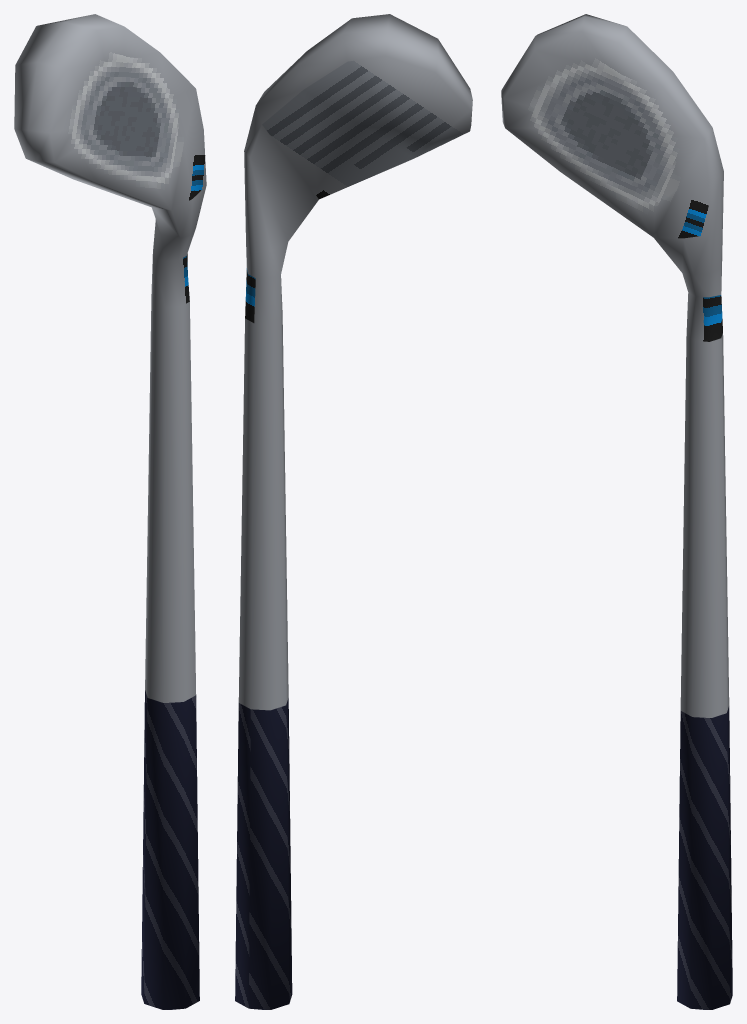
File: club_7i.glb
3 views of the same model, side by side, from view 1: azimuth 30°, elevation 25°; view 2: azimuth 150°, elevation 25°; view 3: azimuth 330°, elevation 25° (orthographic). The views are drawn at different scales.
Parts seen in each view (by area): view 1: polygon1.004, polygon0.004; view 2: polygon1.004, polygon0.004; view 3: polygon1.004, polygon0.004.
Boxes of the visible parts, bbox=[...] form: polygon1.004: bbox=[14, 14, 206, 702]; polygon0.004: bbox=[141, 690, 199, 1009]; polygon1.004: bbox=[238, 14, 472, 710]; polygon0.004: bbox=[235, 698, 292, 1009]; polygon1.004: bbox=[501, 14, 729, 717]; polygon0.004: bbox=[677, 706, 732, 1009].
Size of the model in its own units: 0.0174 by 0.0809 by 0.0089.
2 materials, 2 textured.
